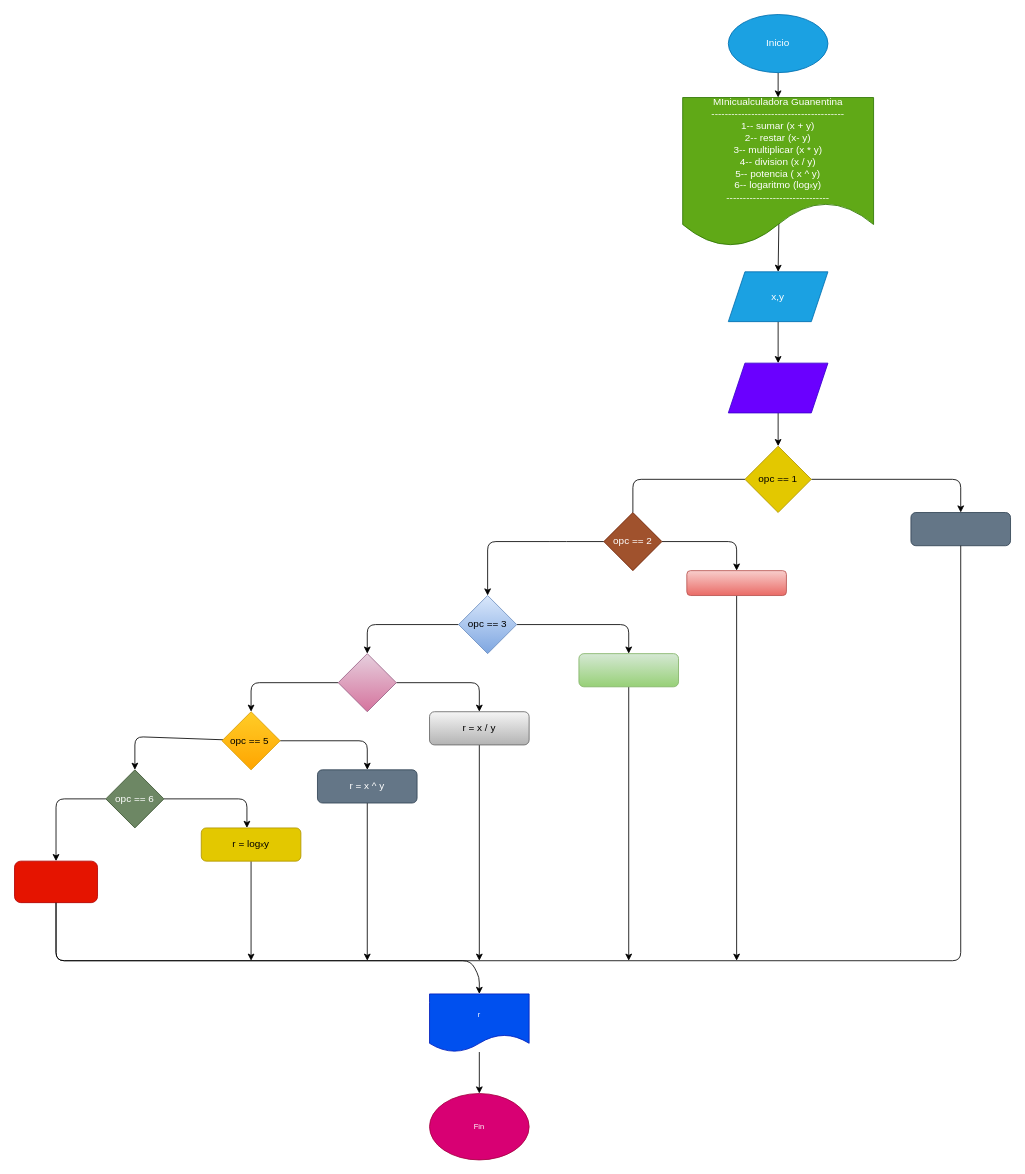
Some shapes in this 1025 by 1174 pixel diagram are drawn without their labels. The shapes that lost their labels are listed below. From the top down, each one's box as (x1, y1, x2, y2) in pixels, then its label:
(727, 362, 828, 413): opc
(910, 512, 1011, 546): r = x + y
(686, 570, 786, 596): r = x - y
(337, 653, 396, 712): opc == 4
(578, 653, 679, 687): r = x * y
(14, 860, 98, 903): r = "No valido
